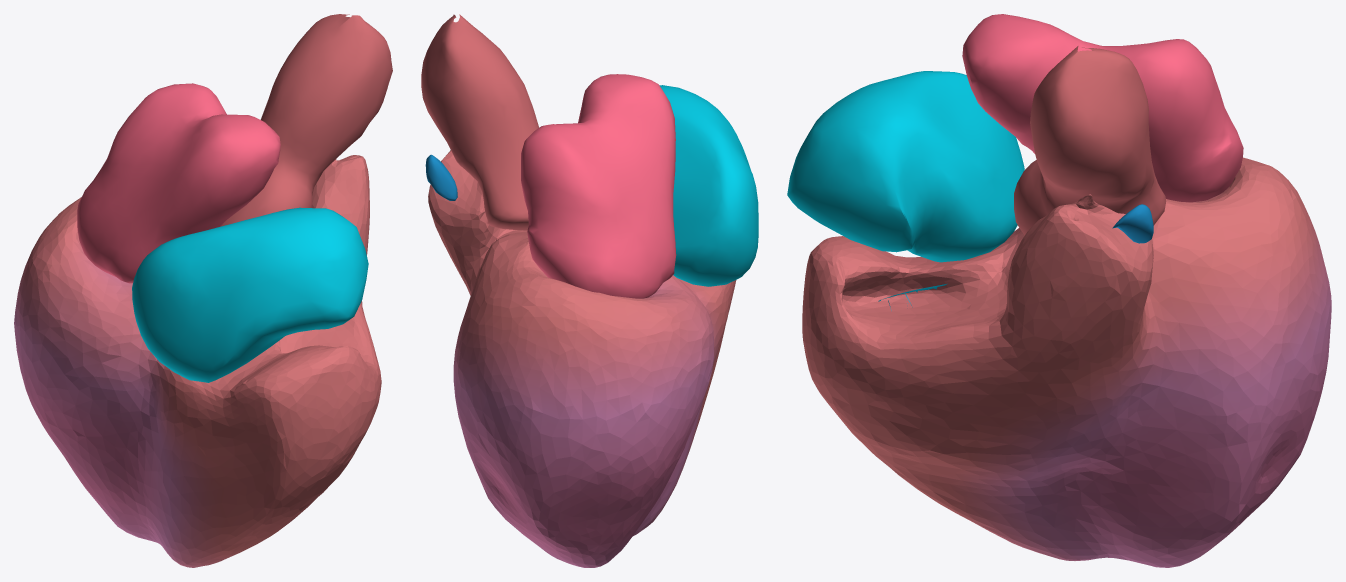
The model's file is frame_29.glb.
3 views of the same model, side by side, from view 1: azimuth 30°, elevation 25°; view 2: azimuth 150°, elevation 25°; view 3: azimuth 270°, elevation 25° (orthographic). The views are drawn at different scales.
Parts seen in each view (by area): view 1: Renderer Node; view 2: Renderer Node; view 3: Renderer Node.
Boxes of the visible parts, x1,y1,x2,y2 form: Renderer Node: (14, 14, 392, 567); Renderer Node: (421, 14, 758, 567); Renderer Node: (787, 14, 1331, 567).
Size of the model in its own units: 99.85 by 153 by 123.
